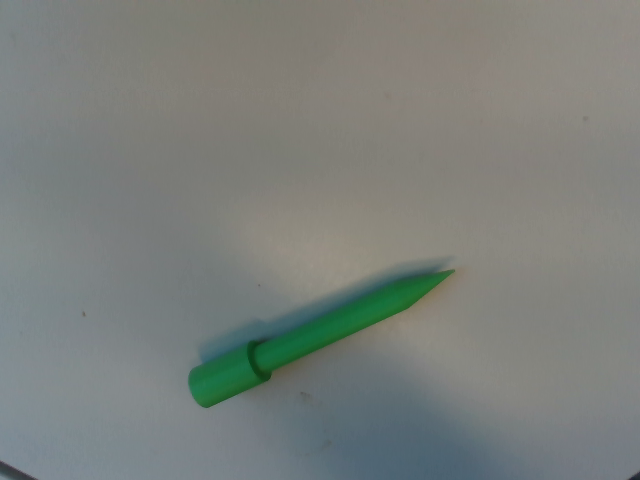Probe: (184, 255, 468, 420)
